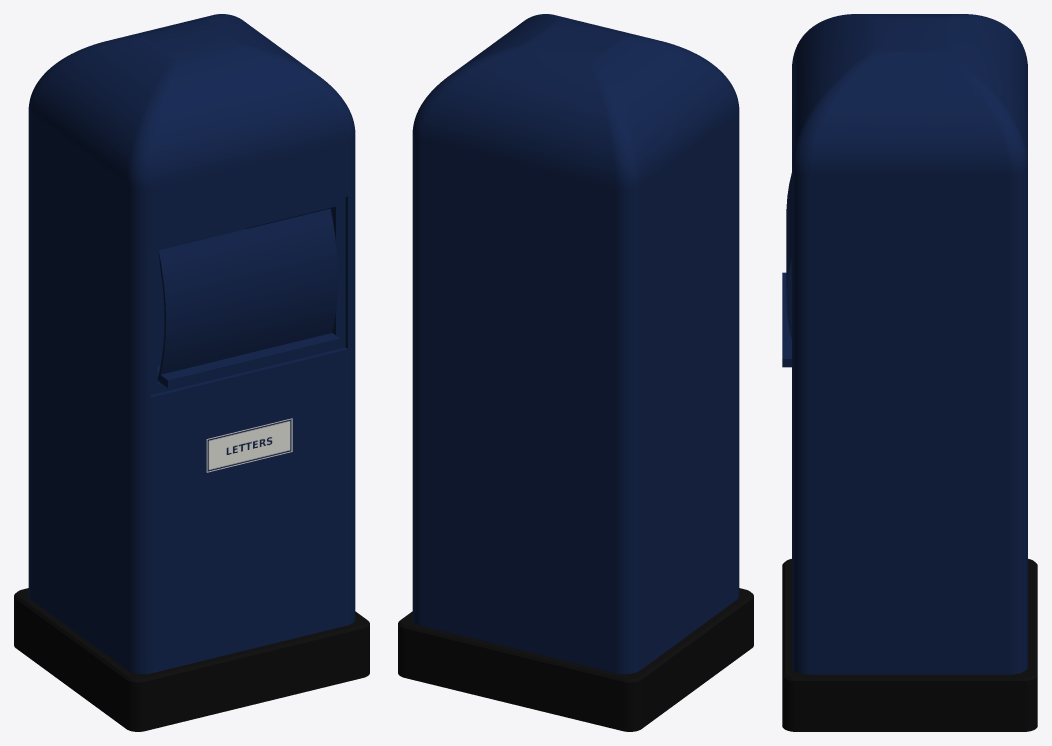
Rendered from street-mailbox.glb.
The picture shows the model from 3 angles, left to right: view 1: azimuth 30°, elevation 25°; view 2: azimuth 150°, elevation 25°; view 3: azimuth 270°, elevation 25°; orthographic projection. The views are drawn at different scales.
Parts seen in each view (by area): view 1: mailbox_body_obj, dome_cap, flap_plate, mailbox_plinth_obj, GLTF; view 2: mailbox_body_obj, dome_cap, mailbox_plinth_obj; view 3: mailbox_body_obj, dome_cap, mailbox_plinth_obj, flap_plate.
Boxes of the visible parts, x1,y1,x2,y2 form: mailbox_body_obj: (28, 112, 355, 673); dome_cap: (28, 14, 355, 188); flap_plate: (157, 208, 339, 388); mailbox_plinth_obj: (14, 588, 369, 731); GLTF: (206, 418, 292, 472); mailbox_body_obj: (412, 112, 739, 673); dome_cap: (412, 14, 739, 188); mailbox_plinth_obj: (398, 588, 753, 731); mailbox_body_obj: (792, 169, 1027, 674); dome_cap: (792, 14, 1027, 175); mailbox_plinth_obj: (782, 559, 1037, 731); flap_plate: (782, 173, 791, 367).
Bounding box in the file's own units: 0.45 × 1.1 × 0.4.
3 materials, 1 textured.
